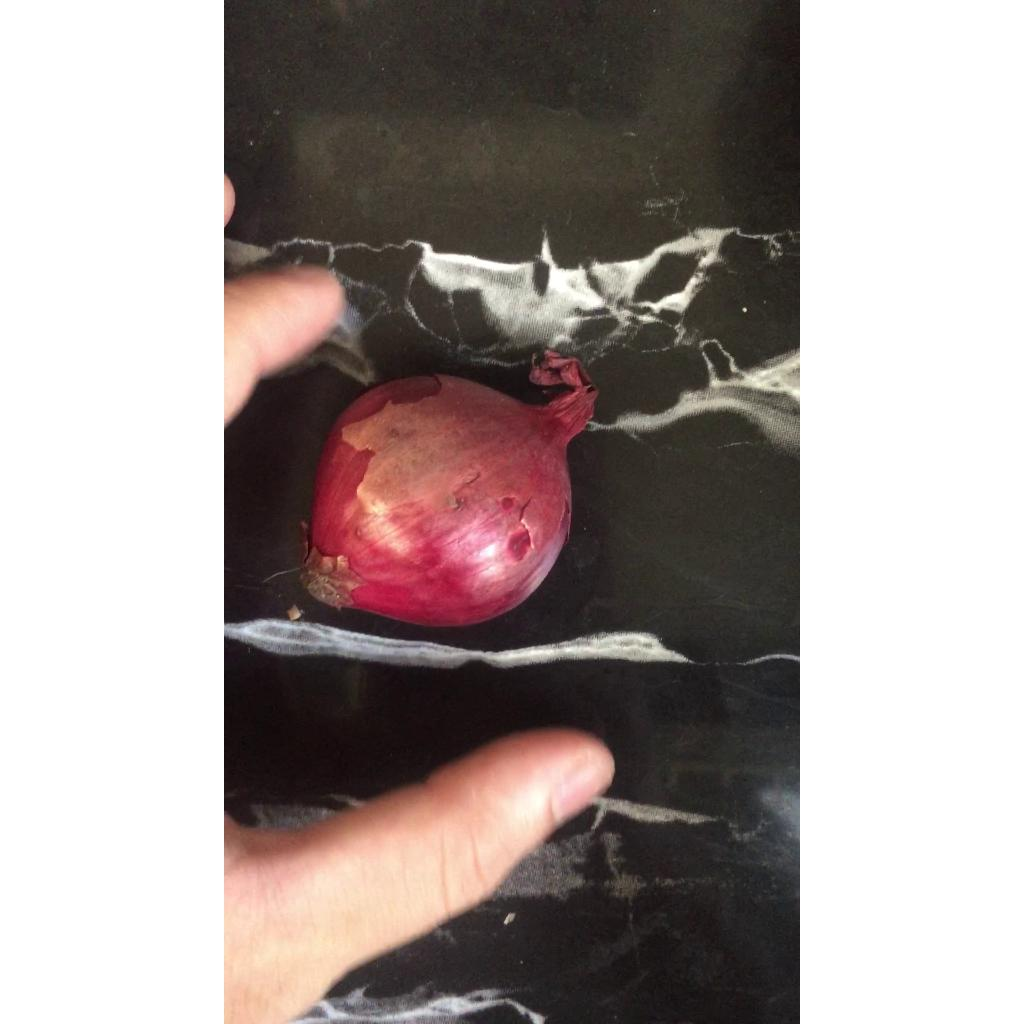Onion: (300, 350, 597, 626)
